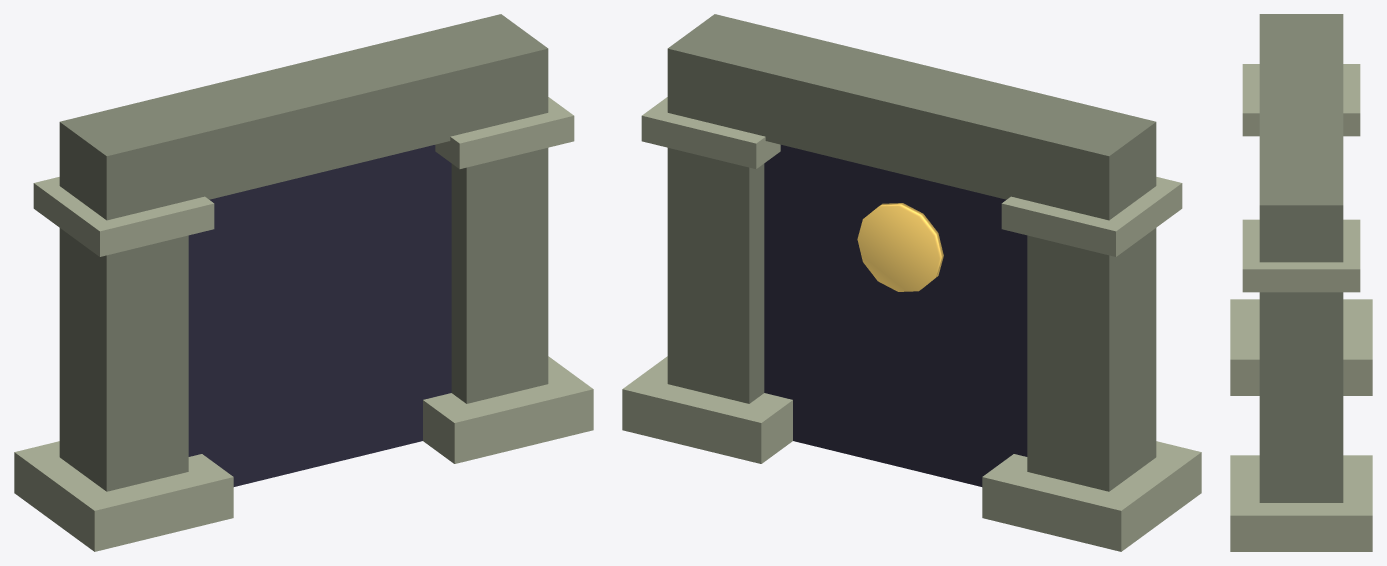
File: sun_gate.glb
The picture shows the model from 3 angles, left to right: view 1: azimuth 30°, elevation 25°; view 2: azimuth 150°, elevation 25°; view 3: azimuth 270°, elevation 25°; orthographic projection. The views are drawn at different scales.
Visible parts, largest first — view 1: door, column (×2), lintel, base (×2), cap (×2); view 2: door, column (×2), lintel, base (×2), cap (×2), sun; view 3: lintel, column, base (×2), cap (×2).
Part boxes in pixels (<box>): door: <box>188,145,451,486</box>; column (×2): <box>59,148,548,491</box>; lintel: <box>59,14,548,220</box>; base (×2): <box>14,356,593,551</box>; cap (×2): <box>33,97,574,256</box>; door: <box>764,145,1027,486</box>; column (×2): <box>667,148,1156,491</box>; lintel: <box>667,14,1156,220</box>; base (×2): <box>622,356,1201,551</box>; cap (×2): <box>641,97,1182,256</box>; sun: <box>857,203,943,291</box>; lintel: <box>1259,14,1343,262</box>; column: <box>1259,292,1343,502</box>; base (×2): <box>1230,299,1372,551</box>; cap (×2): <box>1242,64,1360,292</box>.
Bounding box in the file's own units: 3.05 × 2.2 × 0.85.
